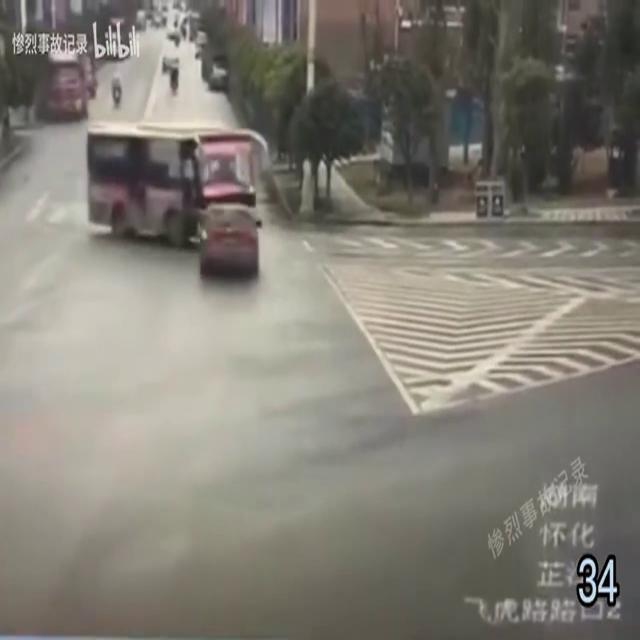accident: (86, 121, 272, 282)
non-accident: (38, 48, 124, 124), (159, 54, 181, 96)
